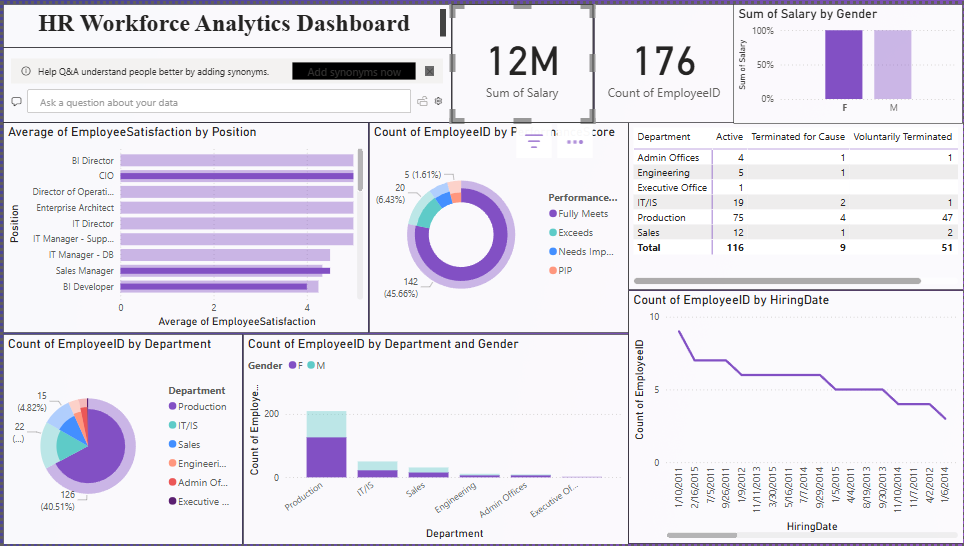

The page's visual inventory and layout, read from the dashboard file:
{"tool":"powerbi","page":{"name":"Page 1","canvas":[1280,720],"ordinal":0},"visuals":[{"type":"pieChart","fields":{"Y":["CountNonNull(HRData.EmployeeID)"],"Category":["HRData.Department"]},"box":[0,439.3,319.6,280.4],"z":0},{"type":"columnChart","fields":{"Category":["HRData.Department"],"Series":["HRData.Gender"],"Y":["CountNonNull(HRData.EmployeeID)"]},"box":[319.6,439.3,514.3,280.4],"z":1000},{"type":"clusteredBarChart","fields":{"Category":["HRData.Position"],"Y":["Avg(HRData.EmployeeSatisfaction)"]},"box":[0,158.9,487.5,280.4],"z":2000},{"type":"donutChart","fields":{"Category":["HRData.PerformanceScore"],"Y":["CountNonNull(HRData.EmployeeID)"]},"box":[487.5,158.9,346.4,280.4],"z":3000},{"type":"lineChart","fields":{"Category":["HRData.HiringDate"],"Y":["CountNonNull(HRData.EmployeeID)"]},"box":[833.9,382.1,446.4,337.5],"z":4000},{"type":"pivotTable","fields":{"Rows":["HRData.Department"],"Columns":["HRData.EmploymentStatus"],"Values":["CountNonNull(HRData.EmployeeID)"]},"box":[833.9,158.9,446.4,223.2],"z":5000},{"type":"textbox","box":[0,0,598.2,58.9],"z":6000},{"type":"qnaVisual","box":[0,58.9,598.2,100],"z":7000},{"type":"card","fields":{"Values":["Sum(HRData.Salary)"]},"box":[598.2,0,189.3,158.9],"z":8000},{"type":"card","fields":{"Values":["CountNonNull(HRData.EmployeeID)"]},"box":[787.5,0,187.5,158.9],"z":9000},{"type":"hundredPercentStackedColumnChart","fields":{"Category":["HRData.Gender"],"Y":["Sum(HRData.Salary)"]},"box":[974,0,306,159],"z":10000}]}

Visuals, with their boxes on the page's 1280x720 design canvas (x1, y1, x2, y2). These are canvas units, not pixel positions in the 964x546 screenshot, which may show the page scaled, cropped or inside an application window:
pieChart - CountNonNull(HRData.EmployeeID) x HRData.Department: [0,439,320,720]
columnChart - HRData.Department x HRData.Gender: [320,439,834,720]
clusteredBarChart - HRData.Position x Avg(HRData.EmployeeSatisfaction): [0,159,488,439]
donutChart - HRData.PerformanceScore x CountNonNull(HRData.EmployeeID): [488,159,834,439]
lineChart - HRData.HiringDate x CountNonNull(HRData.EmployeeID): [834,382,1280,720]
pivotTable - HRData.Department x HRData.EmploymentStatus: [834,159,1280,382]
textbox: [0,0,598,59]
qnaVisual: [0,59,598,159]
card - Sum(HRData.Salary): [598,0,788,159]
card - CountNonNull(HRData.EmployeeID): [788,0,975,159]
hundredPercentStackedColumnChart - HRData.Gender x Sum(HRData.Salary): [974,0,1280,159]
